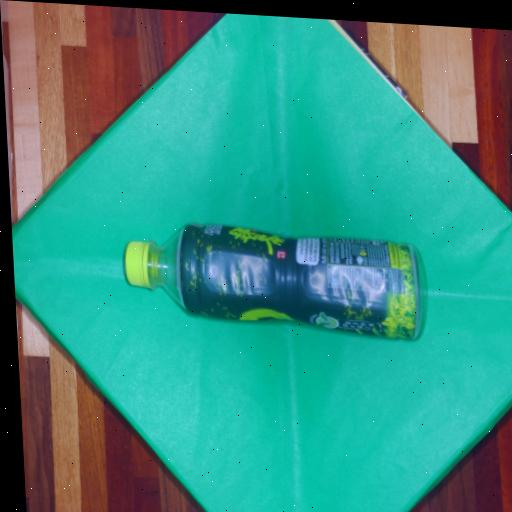bottle: (124, 225, 419, 338)
